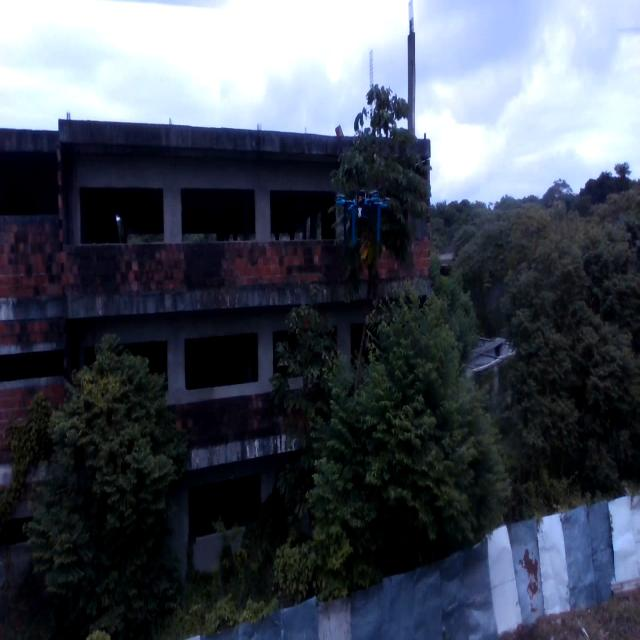-uav-: (333, 176, 400, 254)
